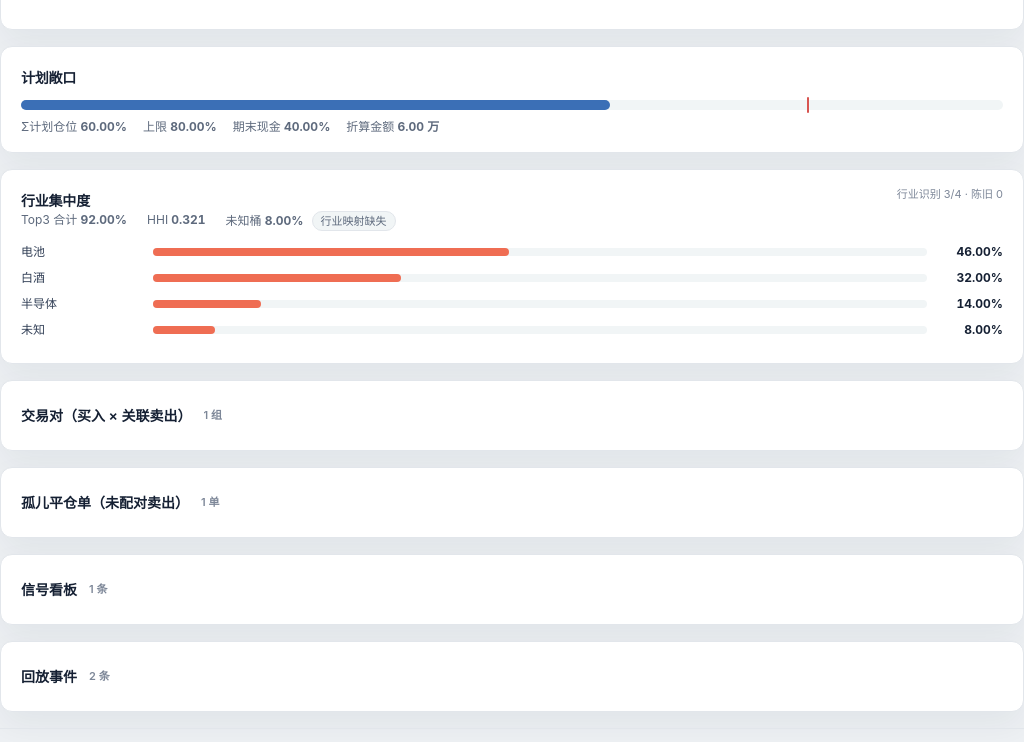
it: ViewPortfolio › 交易对代码缺失 → 渲染 -- 且不产生可点链接（绝不造可点元素）
(page scrolled)
What coordinates should you click on to do the following:
click the button with test id "portfolio-pairs-toggle"
I would click on:
 (106, 416)
Its box is 21,397 -> 1003,434.
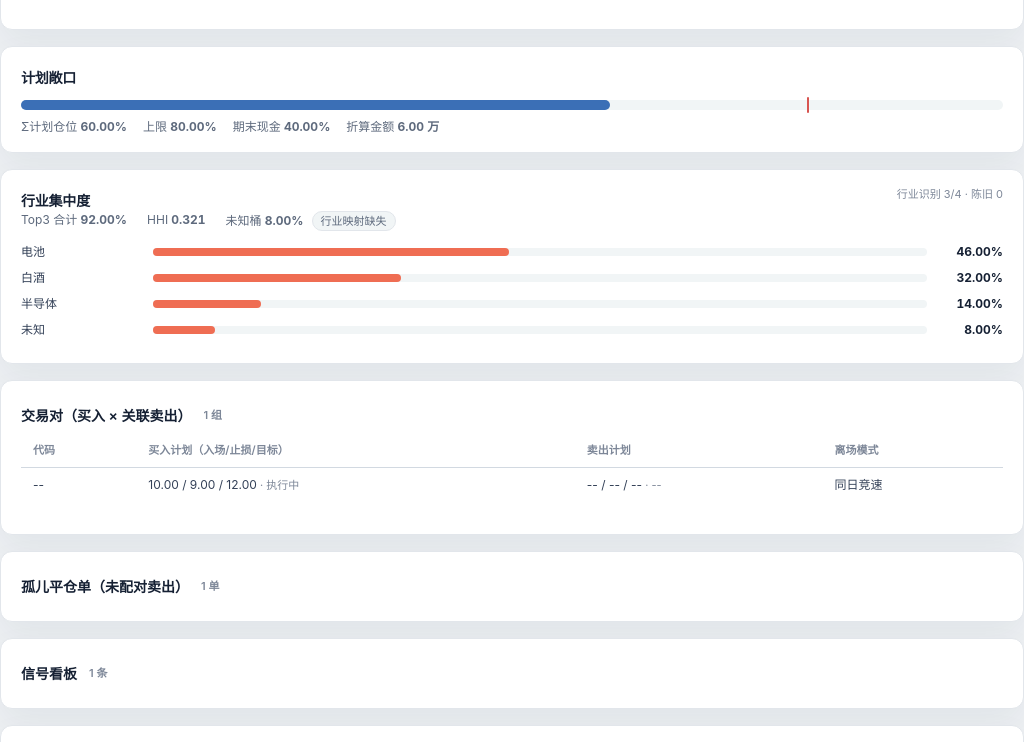
Now the cell "--" is shown, box 21,467 -> 136,502
